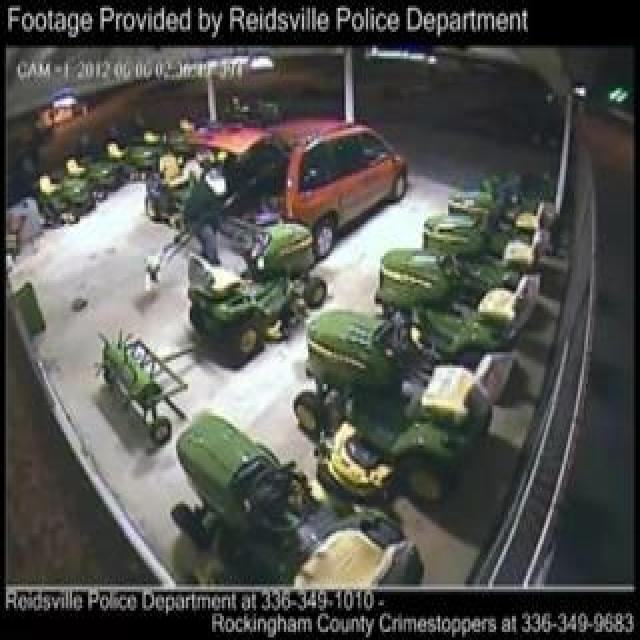thief: (158, 150, 218, 290)
